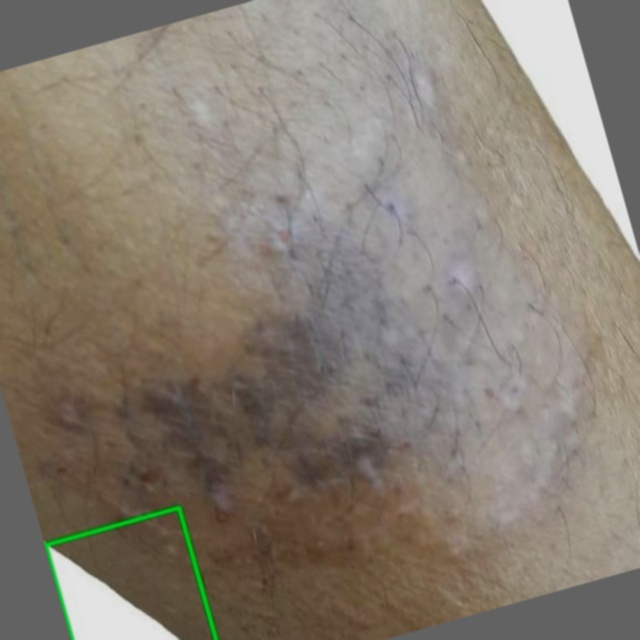Tinea Corporis: (46, 508, 216, 639)
